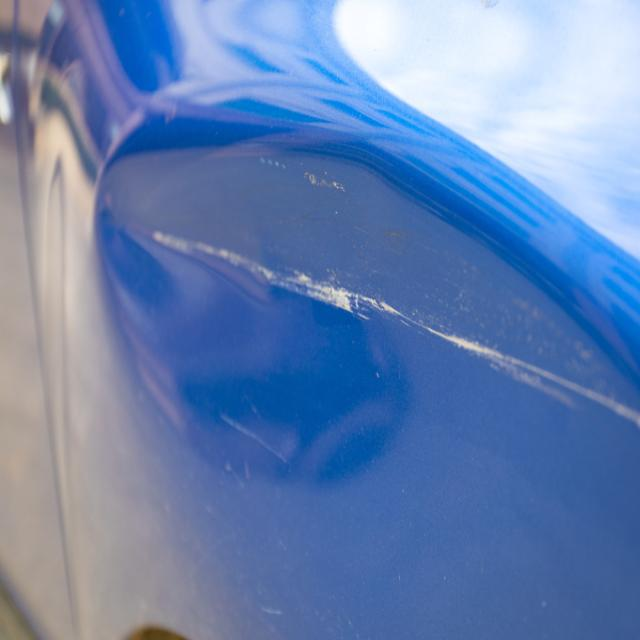Cabossage: (81, 104, 420, 518)
Rayure: (149, 224, 640, 453)
